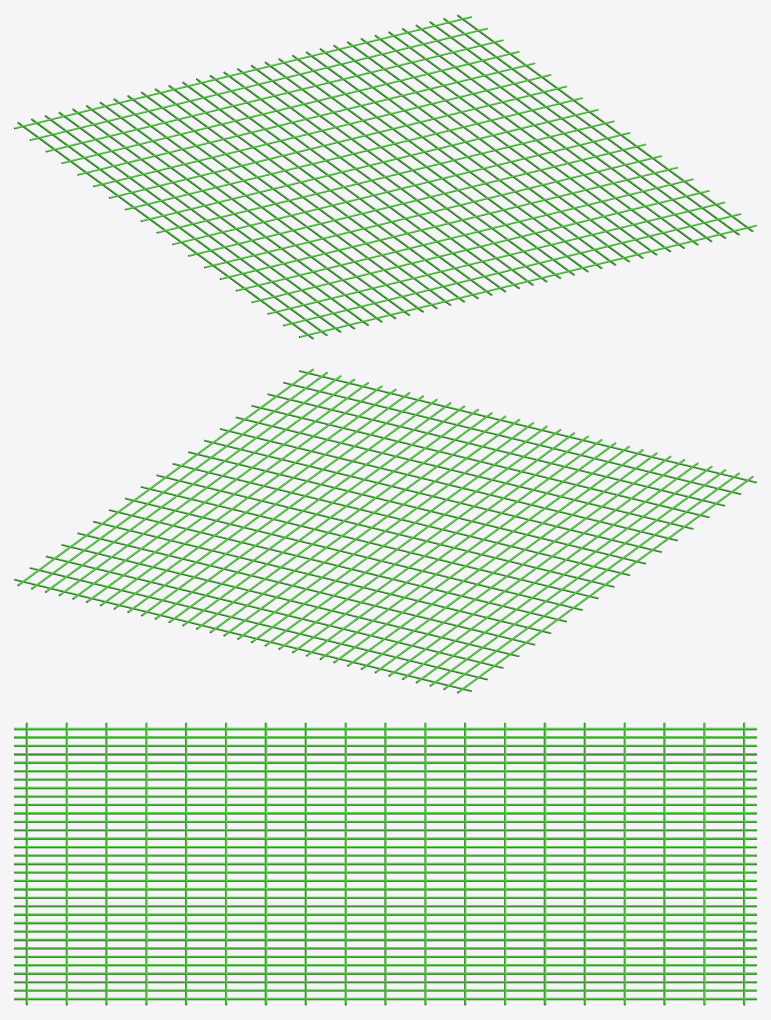
Rendered from FlatGrid.gltf.
3 views of the same model, one above another, from view 1: azimuth 30°, elevation 25°; view 2: azimuth 150°, elevation 25°; view 3: azimuth 270°, elevation 25° (orthographic). The views are drawn at different scales.
Visible parts, largest first — view 1: Cylinder.001; view 2: Cylinder.001; view 3: Cylinder.001.
Part boxes in pixels (x1,y1,x2,y2): Cylinder.001: [14, 14, 756, 339]; Cylinder.001: [14, 368, 756, 693]; Cylinder.001: [14, 722, 756, 1005].
Bounding box in the file's own units: 261 × 1.07 × 292.
